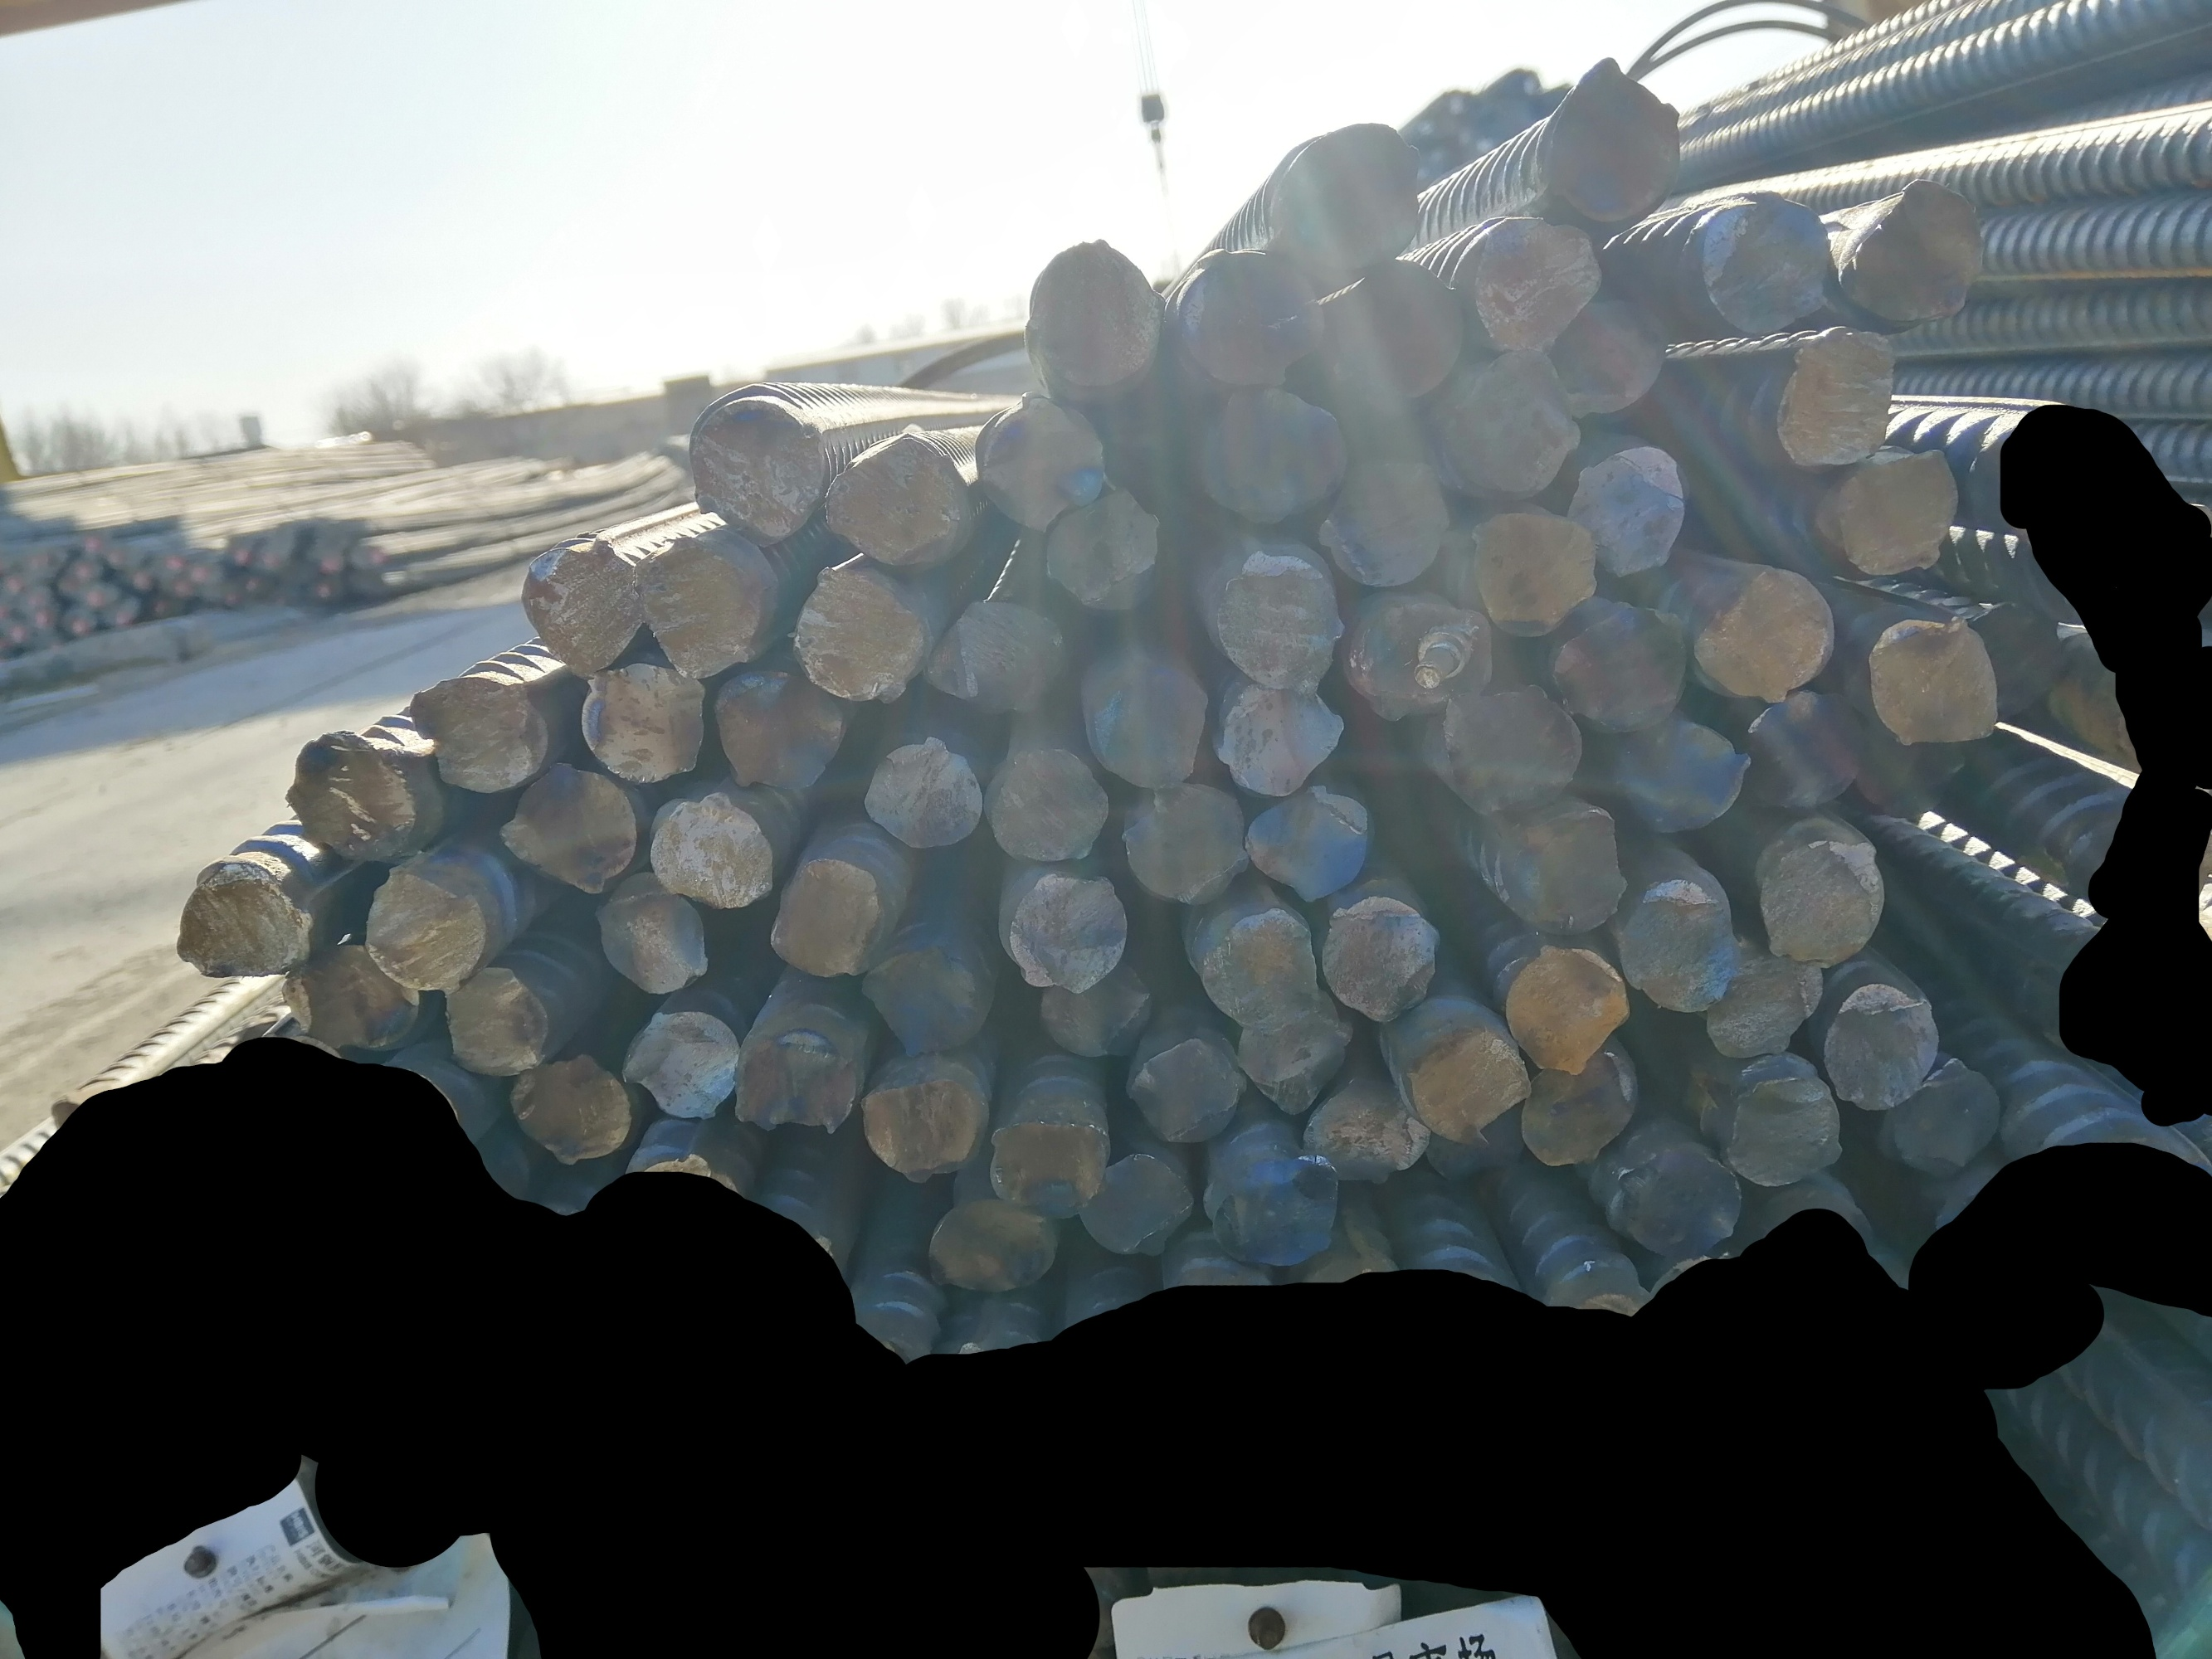rebar: (1536, 58, 1682, 228), (1426, 349, 1586, 502), (1839, 176, 1992, 328), (1175, 242, 1325, 394), (1684, 563, 1837, 711), (1025, 237, 1166, 397), (819, 425, 973, 572), (1210, 535, 1347, 695), (1274, 122, 1422, 267), (1452, 211, 1600, 356), (1327, 263, 1468, 413), (682, 390, 821, 542), (1693, 190, 1837, 335), (1752, 826, 1898, 967), (492, 751, 640, 890), (1768, 322, 1900, 469), (1198, 392, 1347, 521), (791, 566, 927, 708), (399, 669, 546, 798), (978, 392, 1112, 532), (634, 535, 763, 680), (1863, 615, 2001, 748), (286, 732, 420, 866), (1443, 685, 1584, 812), (519, 542, 647, 681), (1616, 713, 1755, 840), (1353, 596, 1492, 723), (577, 655, 709, 788), (1698, 924, 1830, 1056), (1539, 286, 1668, 422), (718, 660, 847, 795), (1829, 448, 1964, 575), (1391, 1019, 1530, 1143), (1619, 871, 1740, 1014), (1464, 512, 1600, 638), (997, 870, 1135, 993), (1504, 941, 1628, 1079), (1815, 978, 1942, 1110), (1320, 460, 1452, 587), (1598, 1143, 1745, 1258), (1557, 605, 1693, 728), (363, 859, 486, 993), (926, 596, 1070, 709), (1239, 781, 1377, 899), (173, 868, 314, 983), (1119, 784, 1252, 906), (1510, 802, 1630, 934), (1715, 1072, 1849, 1190), (1204, 1152, 1340, 1269), (1572, 444, 1686, 582), (1232, 992, 1358, 1115), (865, 934, 992, 1056), (1517, 1046, 1639, 1173), (856, 1065, 987, 1183), (1082, 667, 1215, 784), (589, 871, 708, 1000), (1321, 892, 1436, 1025), (1884, 1056, 2006, 1180), (865, 735, 985, 861), (650, 791, 777, 910), (1963, 596, 2074, 730), (1046, 490, 1166, 613), (1220, 685, 1344, 805), (1736, 692, 1860, 812), (987, 748, 1110, 866), (1199, 910, 1316, 1035), (621, 1007, 741, 1127), (772, 856, 889, 979), (506, 1056, 629, 1169), (279, 945, 417, 1046), (1124, 1032, 1243, 1145), (736, 1035, 865, 1138), (1075, 1152, 1194, 1263), (922, 1201, 1056, 1298), (985, 1114, 1109, 1218), (438, 964, 547, 1080), (1855, 720, 1977, 824), (1297, 1093, 1431, 1187), (1037, 960, 1152, 1058), (1421, 1103, 1537, 1199)
